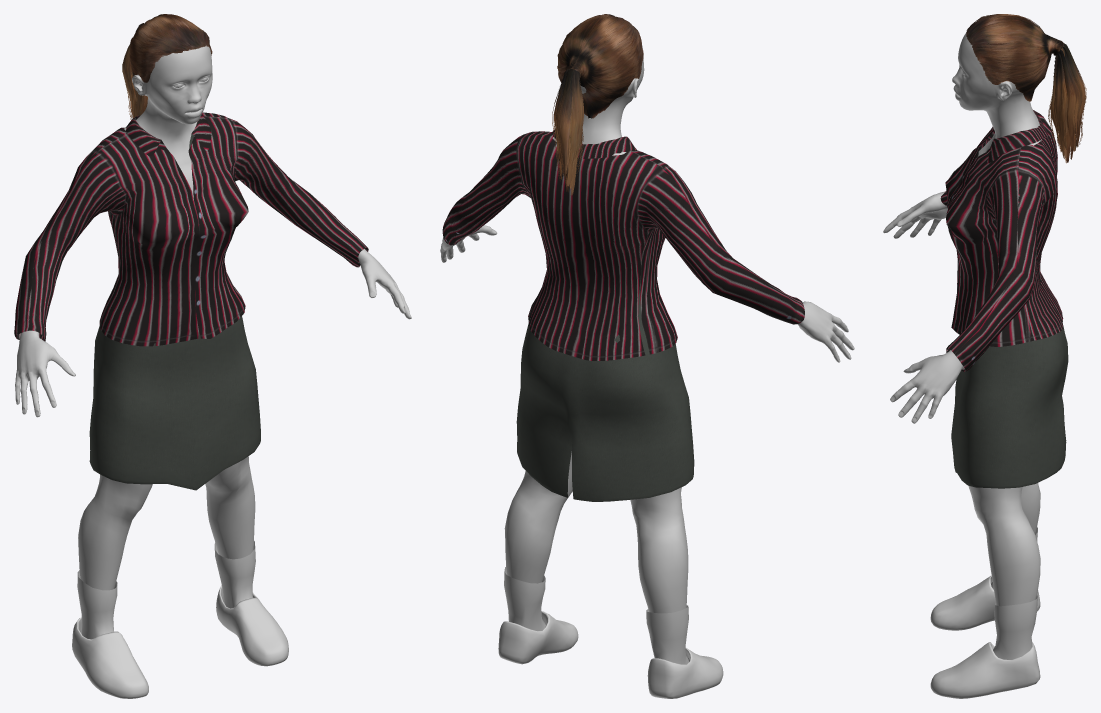
Rendered from person_2.fbx.
3 views of the same model, side by side, from view 1: azimuth 30°, elevation 25°; view 2: azimuth 150°, elevation 25°; view 3: azimuth 270°, elevation 25° (orthographic). The views are drawn at different scales.
Parts seen in each view (by area): view 1: female_elegantsuit01Mesh, person_2Mesh, shoes02Mesh, ponytail01Mesh; view 2: female_elegantsuit01Mesh, person_2Mesh, shoes02Mesh, ponytail01Mesh; view 3: female_elegantsuit01Mesh, person_2Mesh, shoes02Mesh, ponytail01Mesh.
Boxes of the visible parts, x1,y1,x2,y2 form: female_elegantsuit01Mesh: (14,112,368,490); person_2Mesh: (15,45,411,590); shoes02Mesh: (72,541,288,698); ponytail01Mesh: (122,14,212,120); female_elegantsuit01Mesh: (442,129,804,501); person_2Mesh: (440,45,854,613); shoes02Mesh: (498,567,723,698); ponytail01Mesh: (552,14,643,195); female_elegantsuit01Mesh: (940,110,1068,488); person_2Mesh: (883,33,1041,606); shoes02Mesh: (930,527,1040,698); ponytail01Mesh: (966,14,1086,163).
Size of the model in its own units: 78.25 by 123 by 35.43.
